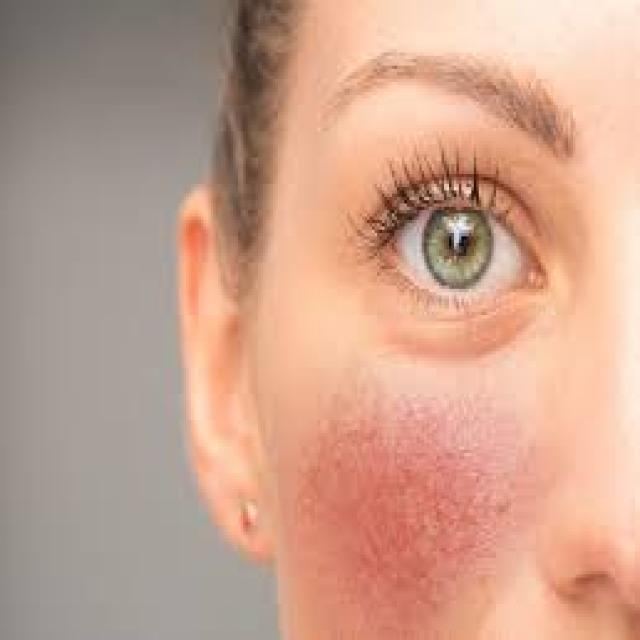Rosacea: (268, 385, 542, 640)
